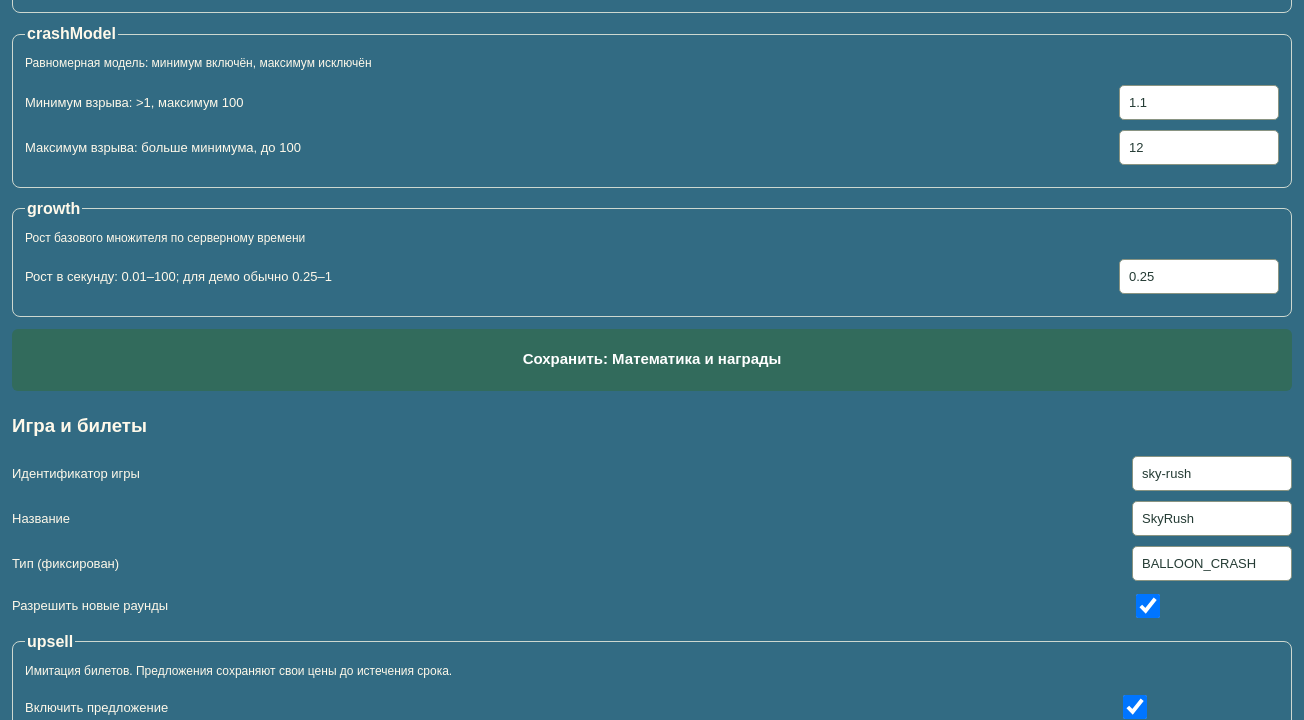
Test case: admin confirms successful apply
This screenshot has width=1304, height=720.
(page scrolled)
Click the button "Сохранить: Математика и награды": (652, 360) [12, 329, 1292, 391]
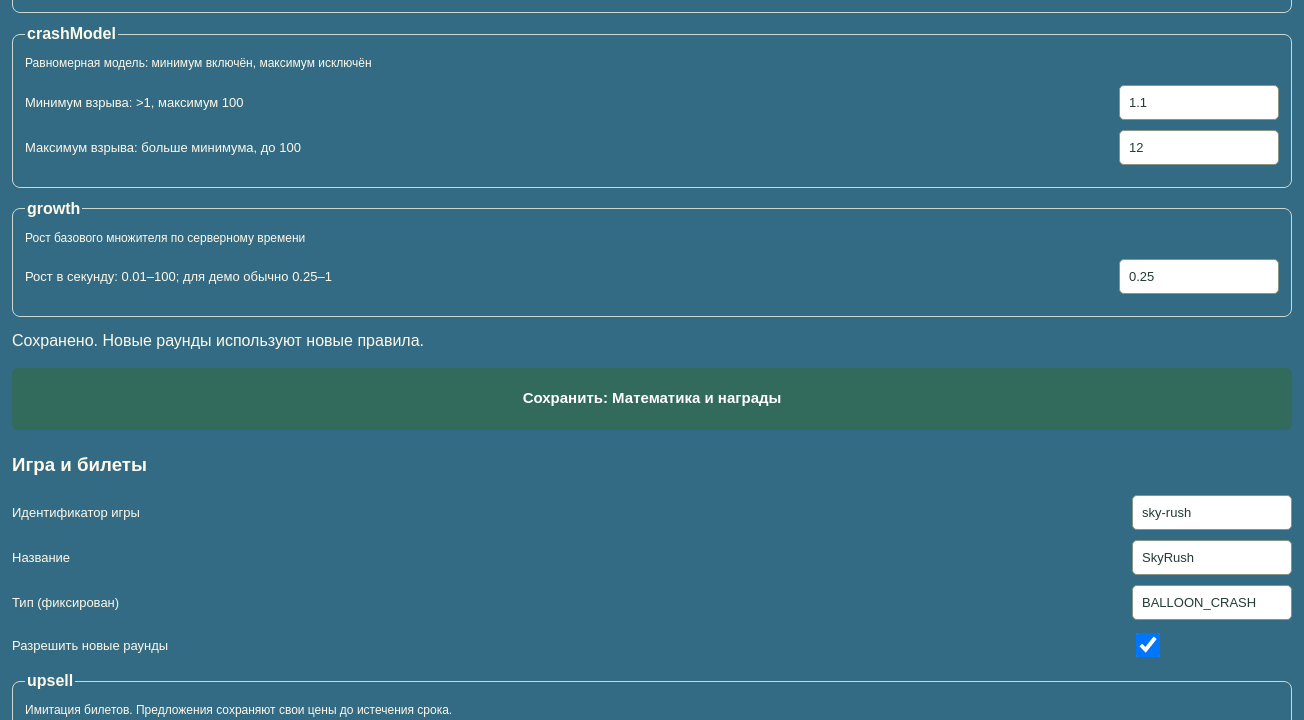
Now the text "Сохранено. Новые раунды используют новые правила." is shown, box [12, 332, 424, 349]
